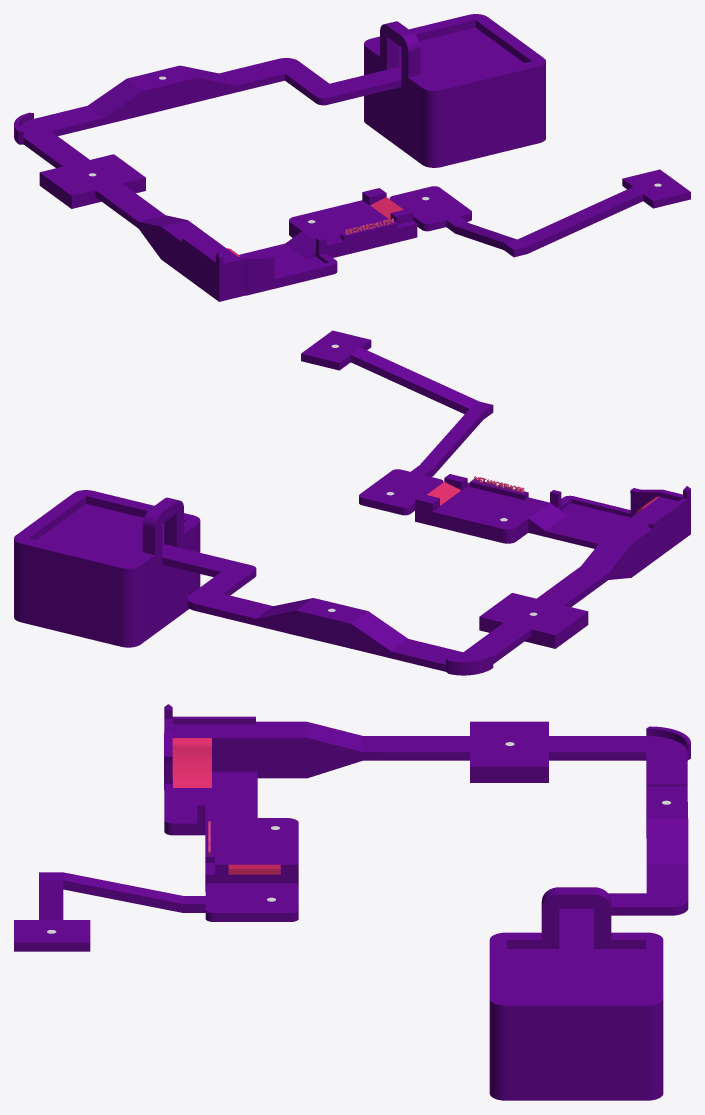
3 renders of one model, top to bottom at view 1: azimuth 30°, elevation 25°; view 2: azimuth 150°, elevation 25°; view 3: azimuth 270°, elevation 25°, orthographic. The views are drawn at different scales.
Visible parts, largest first — view 1: Cube.001, Cube.003, Cube.011, Cube.005, Cube.010, Cube.004, Cube.006, Cube.002, Cube.007, Cube.009; view 2: Cube.001, Cube.003, Cube.011, Cube.005, Cube.010, Cube.004, Cube.006, Cube.002, Cube.009; view 3: Cube.001, Cube.011, Cube.005, Cube.003, Cube.010, Cube.004, Cube.006, Cube.002, Cube.008.
Boxes of the visible parts, <box> form: Cube.001: <box>231,14,545,167</box>; Cube.003: <box>14,65,196,223</box>; Cube.011: <box>389,169,690,257</box>; Cube.005: <box>131,210,245,301</box>; Cube.010: <box>289,188,417,257</box>; Cube.004: <box>39,154,145,208</box>; Cube.006: <box>239,236,337,295</box>; Cube.002: <box>181,65,247,101</box>; Cube.007: <box>243,254,274,291</box>; Cube.009: <box>285,231,315,258</box>; Cube.001: <box>14,490,260,647</box>; Cube.003: <box>296,571,601,675</box>; Cube.011: <box>301,330,493,515</box>; Cube.005: <box>574,486,690,584</box>; Cube.010: <box>415,474,549,543</box>; Cube.004: <box>479,593,588,648</box>; Cube.006: <box>528,490,634,548</box>; Cube.002: <box>243,598,312,635</box>; Cube.009: <box>528,503,566,530</box>; Cube.001: <box>489,871,688,1100</box>; Cube.011: <box>14,872,298,951</box>; Cube.005: <box>164,704,380,778</box>; Cube.003: <box>380,726,690,837</box>; Cube.010: <box>205,818,298,891</box>; Cube.004: <box>470,721,548,782</box>; Cube.006: <box>164,771,257,835</box>; Cube.002: <box>646,818,688,870</box>; Cube.008: <box>172,738,211,787</box>.
Size of the model in its own units: 80.03 by 17.83 by 78.02.
